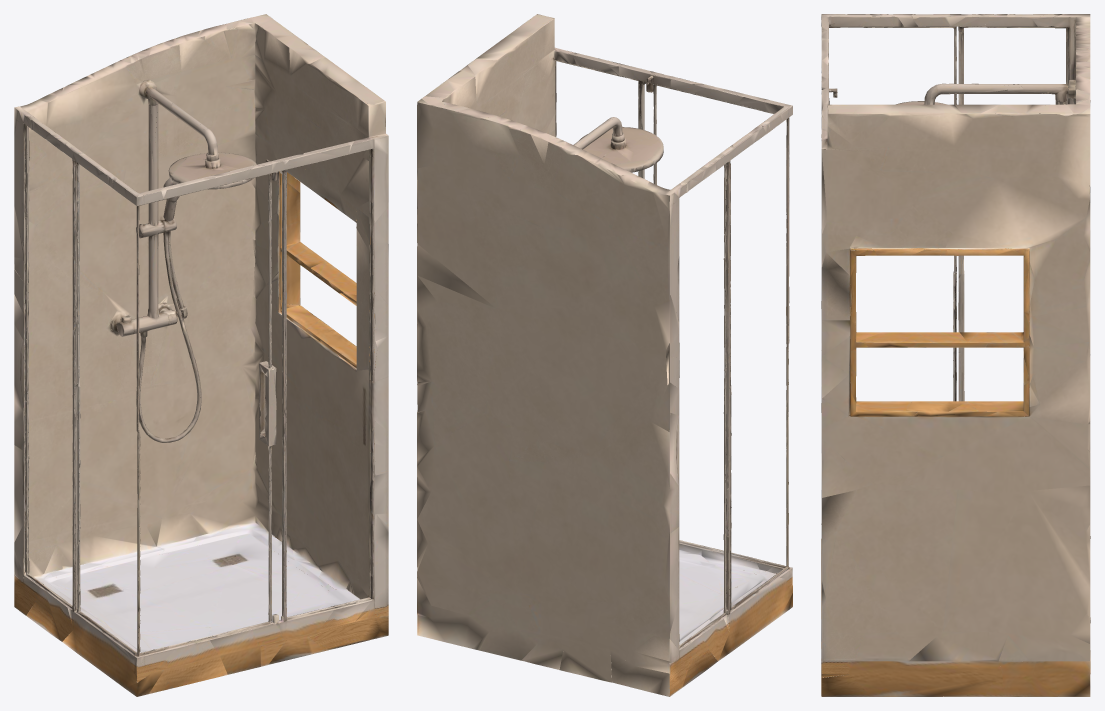
Rendered from shower-cabin.glb.
The picture shows the model from 3 angles, left to right: view 1: azimuth 30°, elevation 25°; view 2: azimuth 150°, elevation 25°; view 3: azimuth 270°, elevation 25°; orthographic projection. The views are drawn at different scales.
Parts seen in each view (by area): view 1: Mesh_0; view 2: Mesh_0; view 3: Mesh_0.
Part boxes in pixels (bbox=[...]): Mesh_0: bbox=[14, 14, 388, 696]; Mesh_0: bbox=[417, 14, 792, 696]; Mesh_0: bbox=[821, 14, 1090, 696].
Size of the model in its own units: 1.01 by 2 by 0.8368.
Materials: 1 (1 with a texture image).
